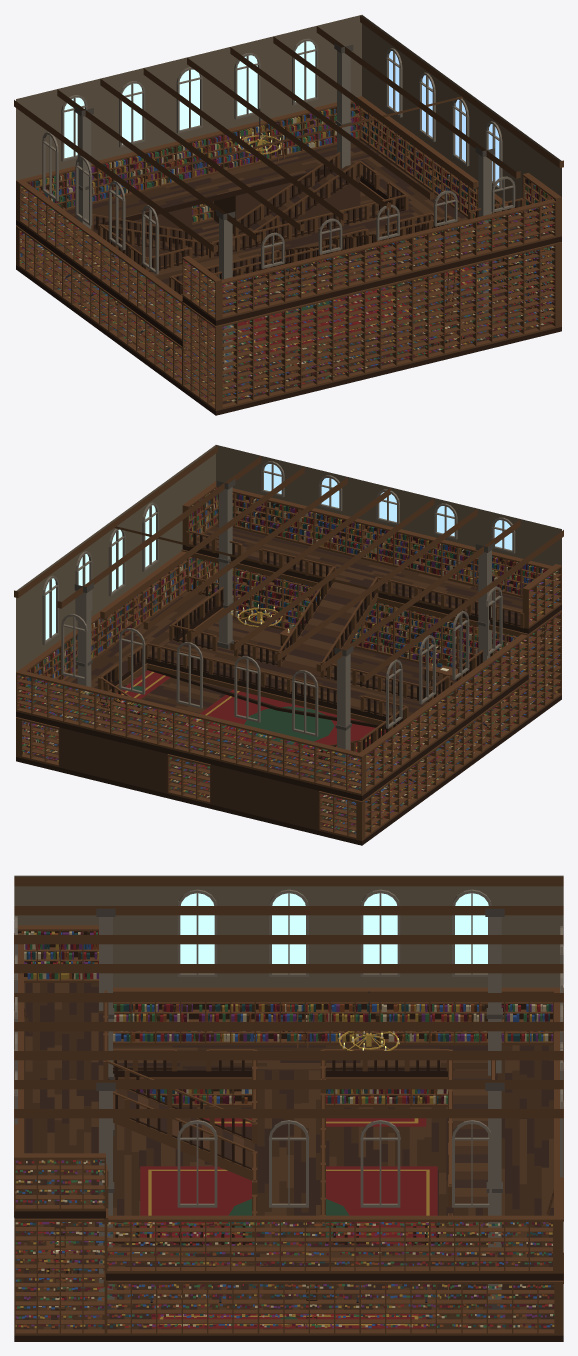
File: library.glb
3 views of the same model, one above another, from view 1: azimuth 30°, elevation 25°; view 2: azimuth 150°, elevation 25°; view 3: azimuth 270°, elevation 25° (orthographic). The views are drawn at different scales.
Parts seen in each view (by area): view 1: Library, Library.Ceiling; view 2: Library, Library.Ceiling; view 3: Library, Library.Ceiling.
Boxes of the visible parts, x1=… form: Library: x1=16, y1=15, x2=561, y2=415; Library.Ceiling: x1=14, y1=15, x2=563, y2=252; Library: x1=16, y1=445, x2=561, y2=845; Library.Ceiling: x1=14, y1=445, x2=563, y2=682; Library: x1=14, y1=875, x2=563, y2=1341; Library.Ceiling: x1=14, y1=877, x2=563, y2=1119.
Size of the model in its own units: 24.3 by 11.3 by 24.04.
